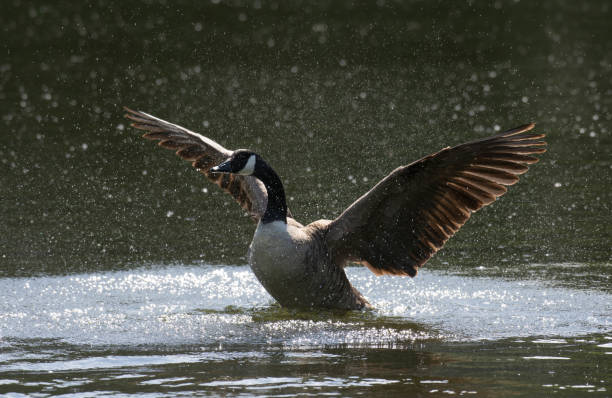goose: (119, 104, 549, 320)
